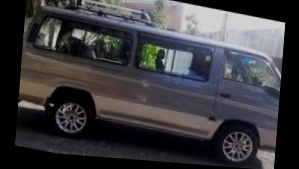van: (15, 0, 286, 169)
